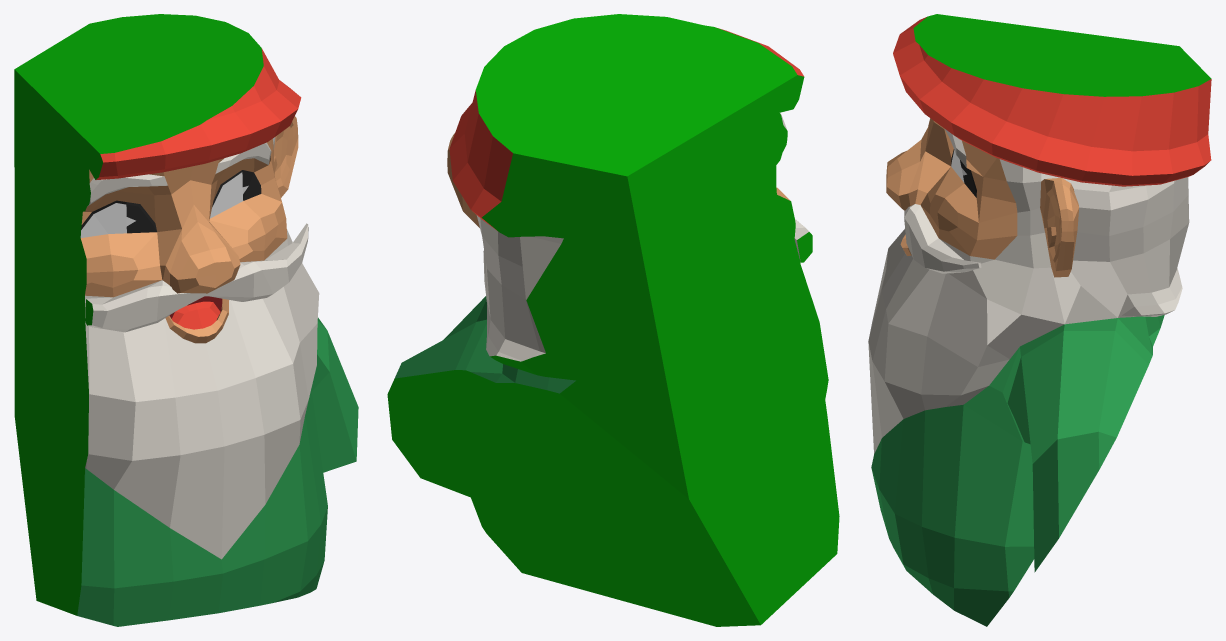
The model's file is Shard04.fbx.
3 renders of one model, left to right at view 1: azimuth 30°, elevation 25°; view 2: azimuth 150°, elevation 25°; view 3: azimuth 270°, elevation 25°, orthographic. The views are drawn at different scales.
Parts seen in each view (by area): view 1: Gnome_Geo_shard4; view 2: Gnome_Geo_shard4; view 3: Gnome_Geo_shard4.
Boxes of the visible parts, <box> form: Gnome_Geo_shard4: <box>14,14,358,626</box>; Gnome_Geo_shard4: <box>387,14,839,626</box>; Gnome_Geo_shard4: <box>868,14,1211,626</box>.
Size of the model in its own units: 21.05 by 30.59 by 18.13.
